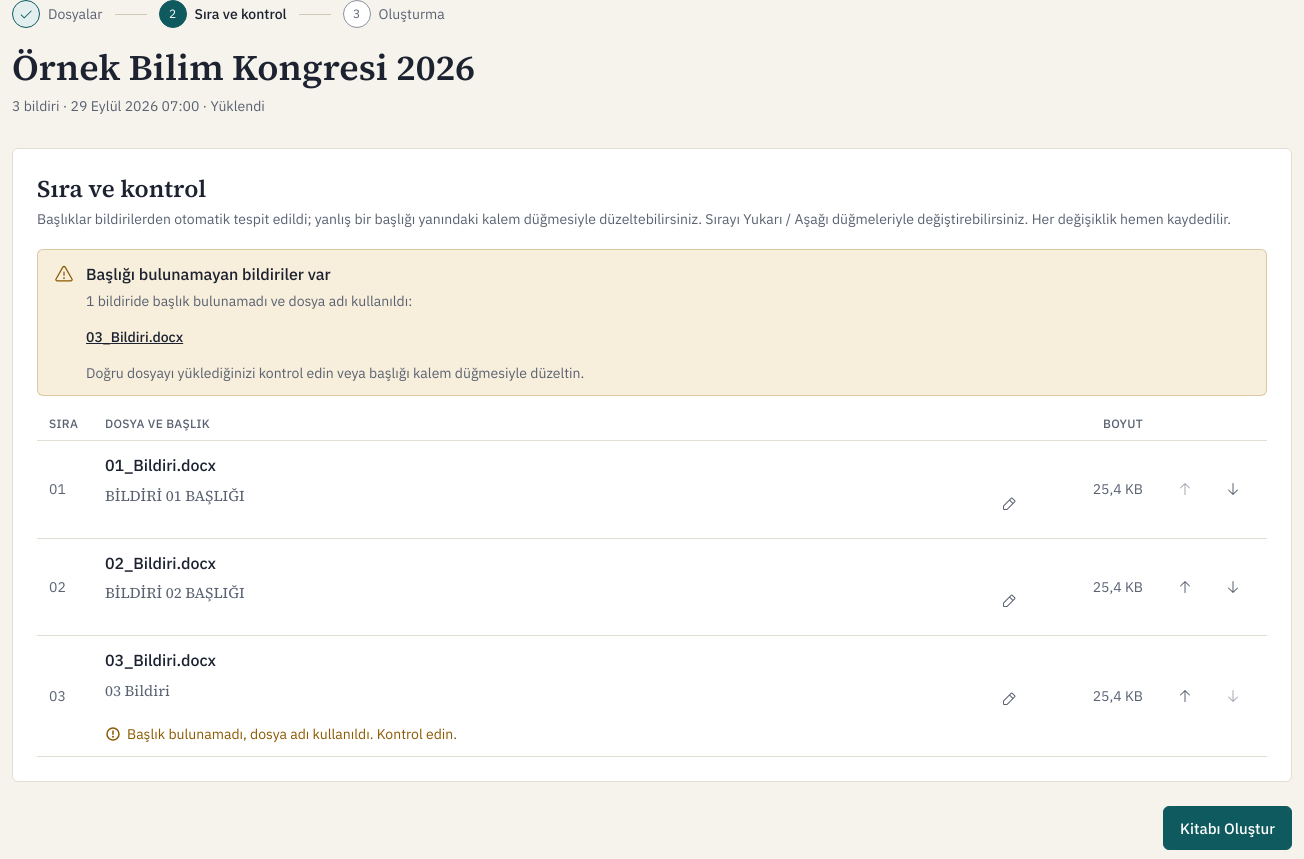
Test: BookPage — order step › lets a wrong title be corrected right after the upload; a corrected title needs no note
Expected: the text "Başlık bulunamadı, dosya adı kullanıldı. Kontrol edin." is shown, [127,725,457,744]
Expected: the list item "2 Sıra ve kontrol" is shown, [158,0,287,28]
Click the button named "03_Bildiri.docx başlığını düzenle": (1009, 699) [987,677,1031,721]
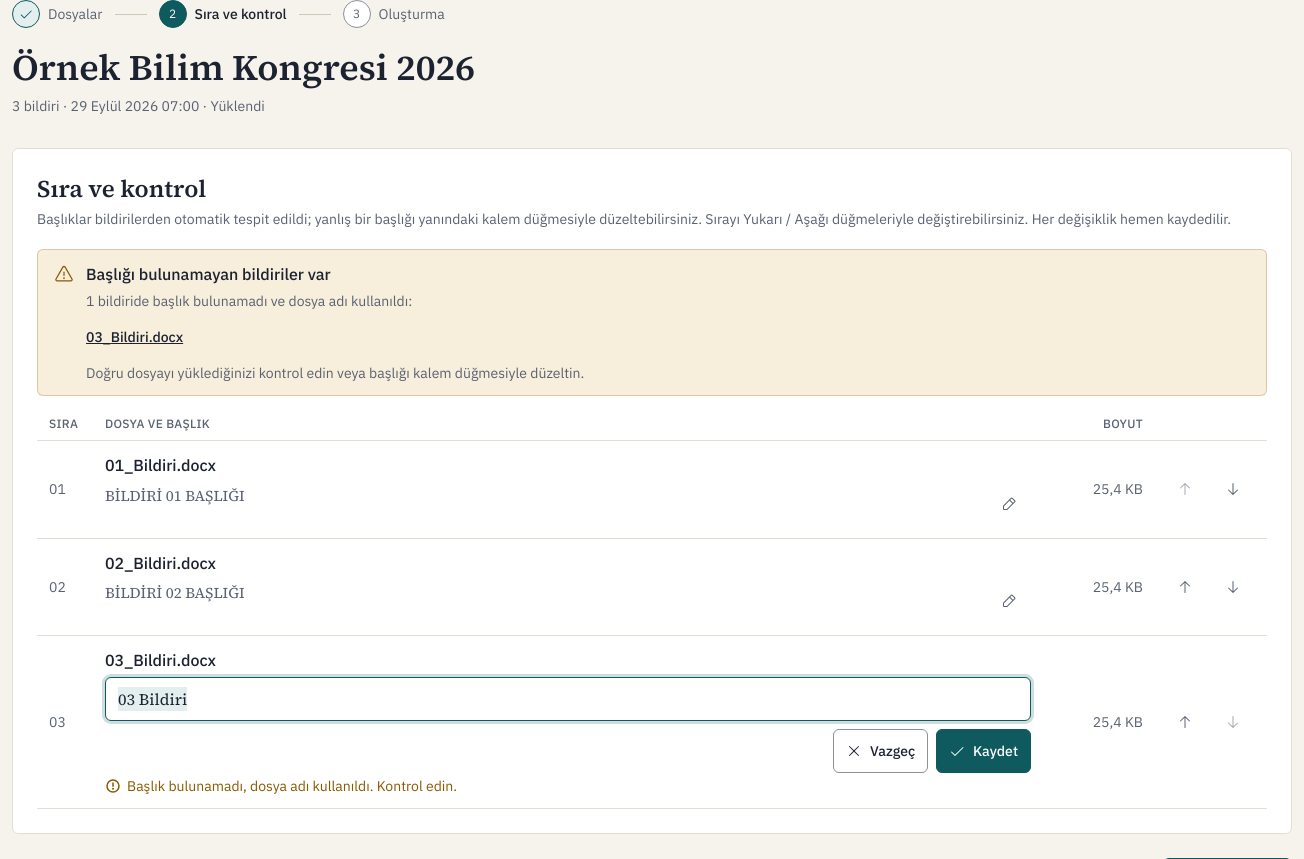
Clear the field named "03_Bildiri.docx başlığı": (568, 699) [105,677,1031,721]
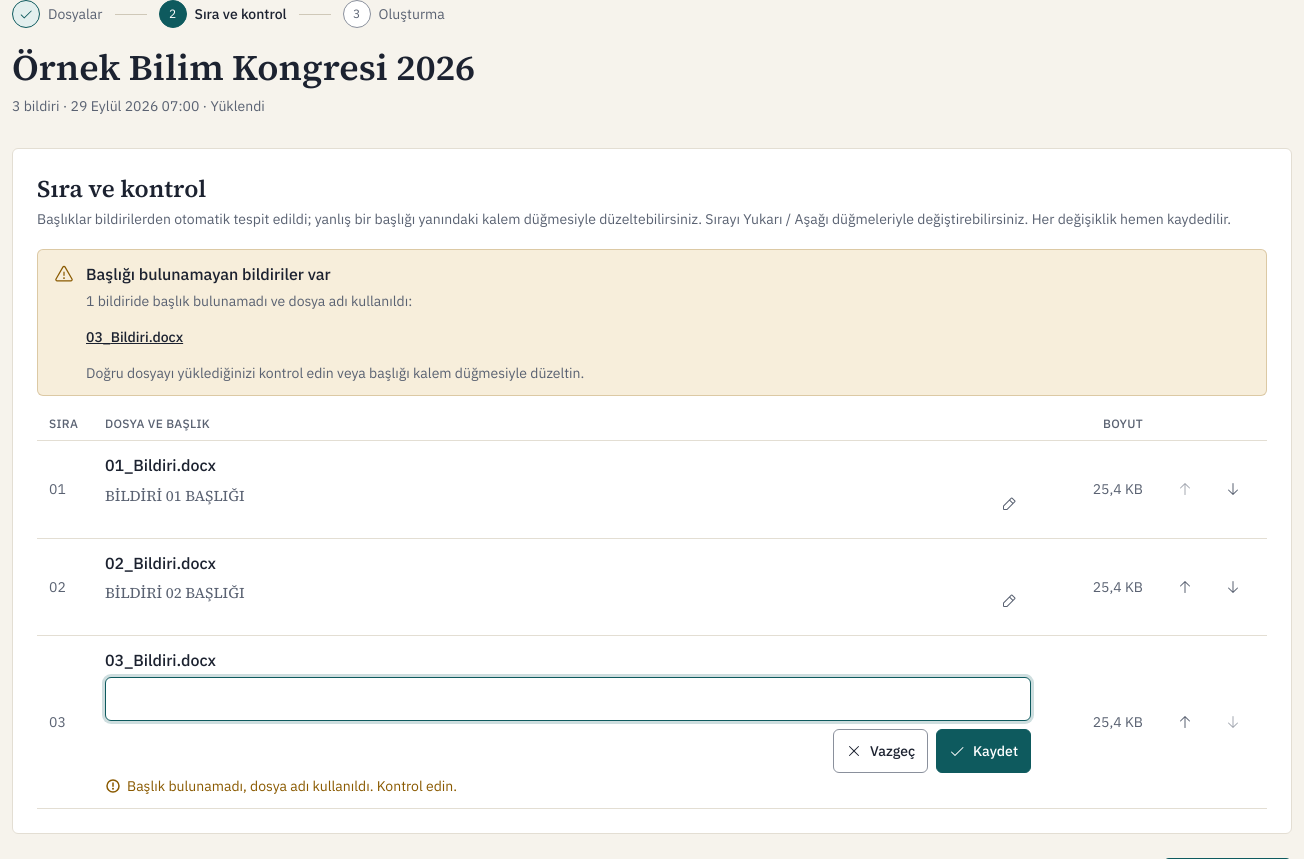
Type keys "GERÇEK BAŞLIK{Enter}"
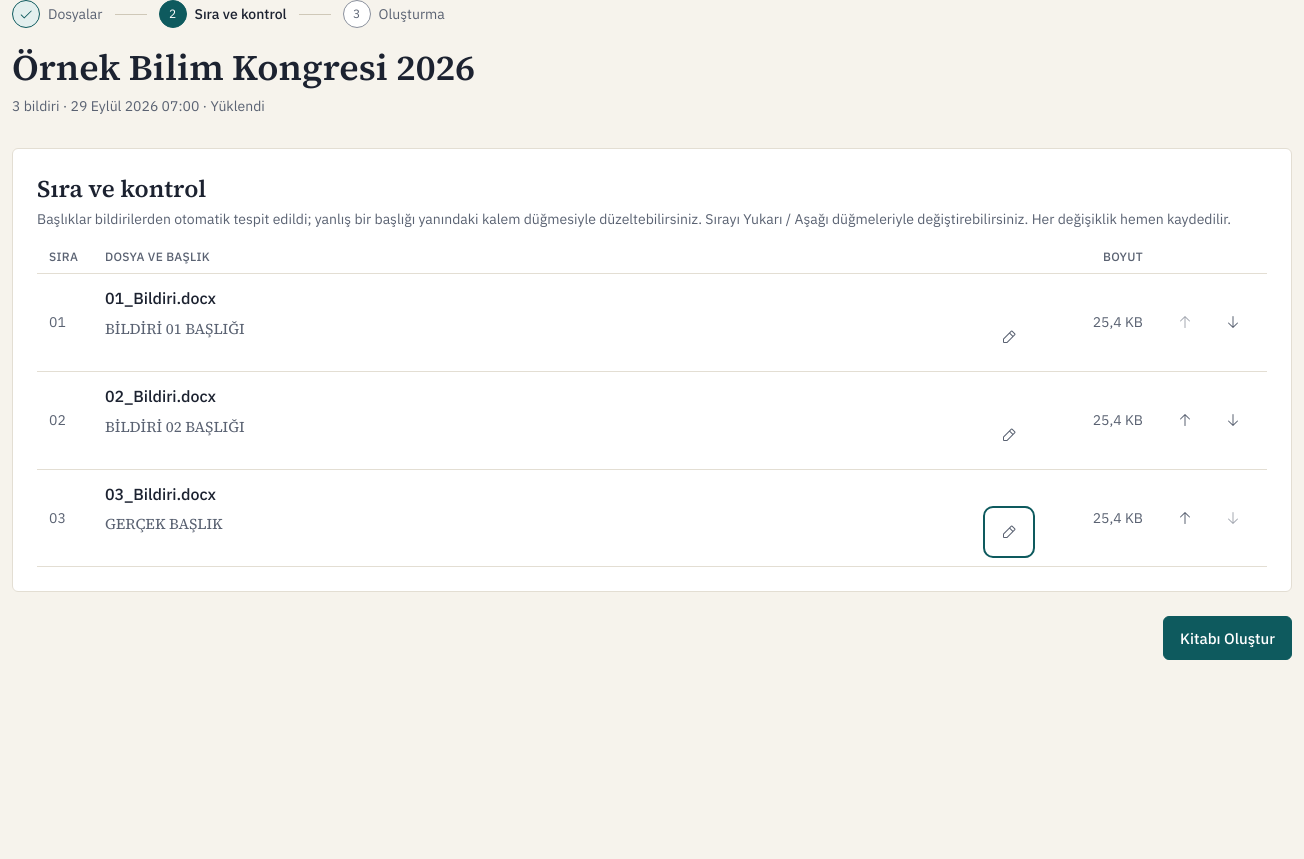
Result: the text "GERÇEK BAŞLIK" is shown at [105,513,223,534]
Result: the text "Kontrol edin." is gone
